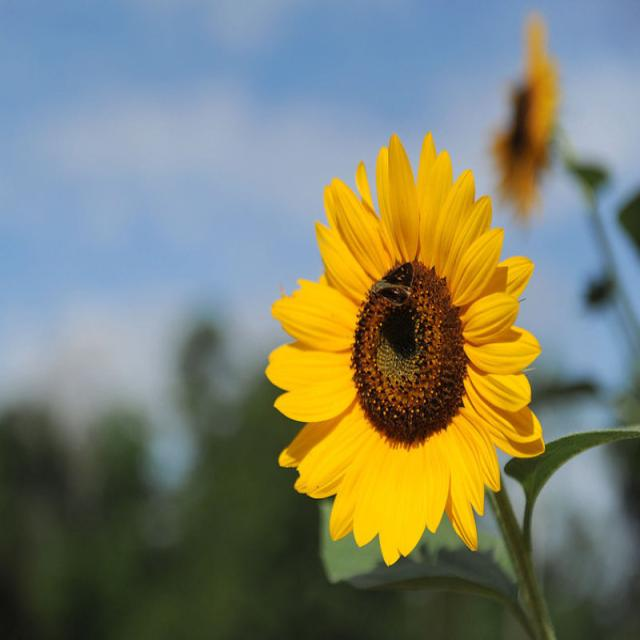sunflower: (261, 115, 552, 572), (480, 18, 575, 220)
